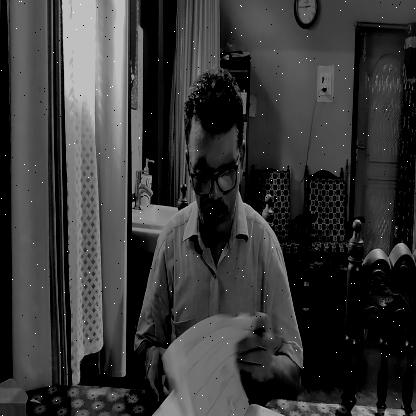Normal: (186, 68, 248, 237)
